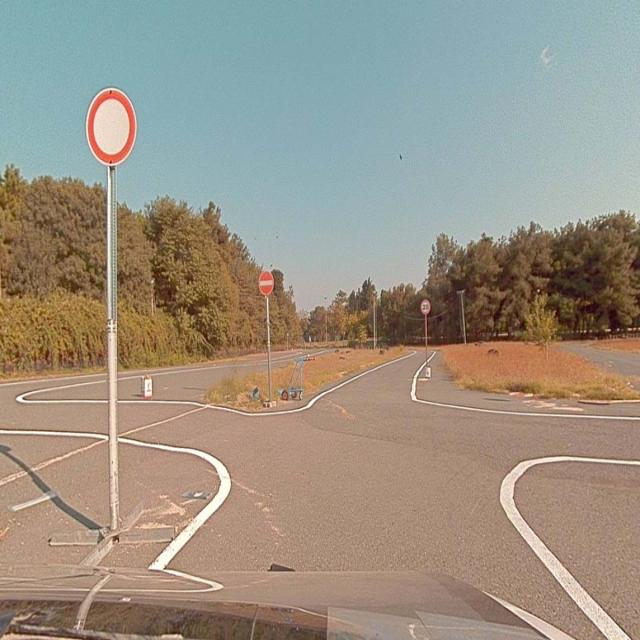20: (421, 299, 430, 313)
girisyok: (259, 270, 274, 294)
